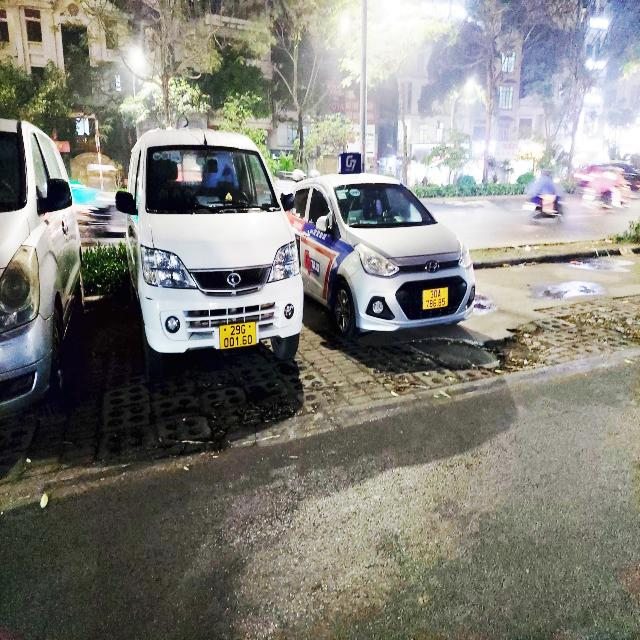license_plate: (218, 321, 259, 352), (422, 286, 450, 312)
